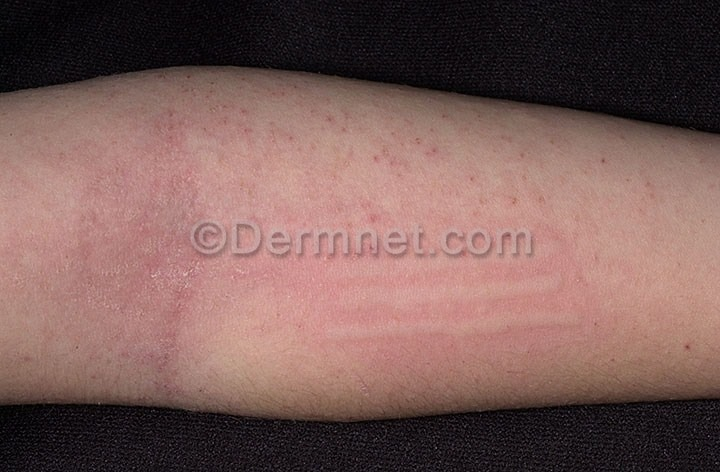Eczema: (55, 83, 681, 394)
